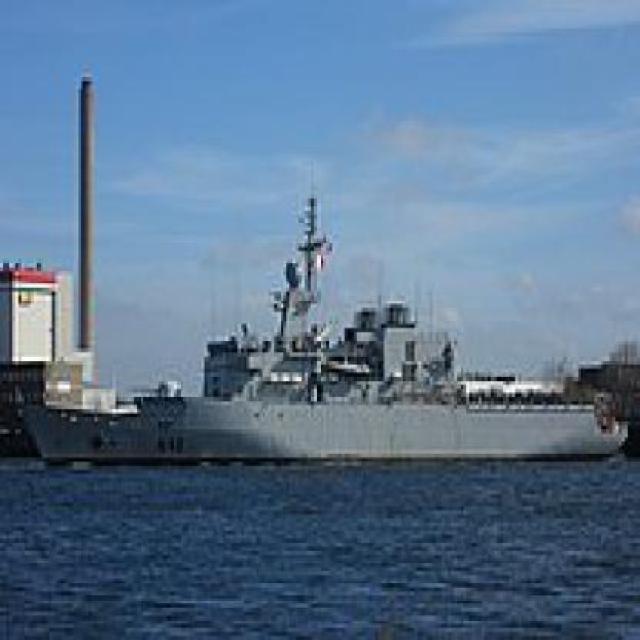warship2: (13, 199, 632, 471)
